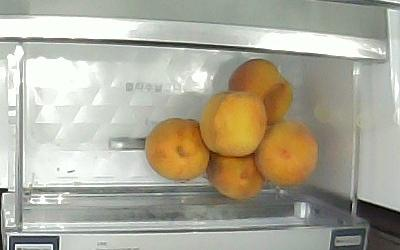peach: (200, 91, 267, 156), (145, 117, 210, 181), (255, 119, 318, 185), (229, 59, 293, 119), (206, 151, 264, 200)
